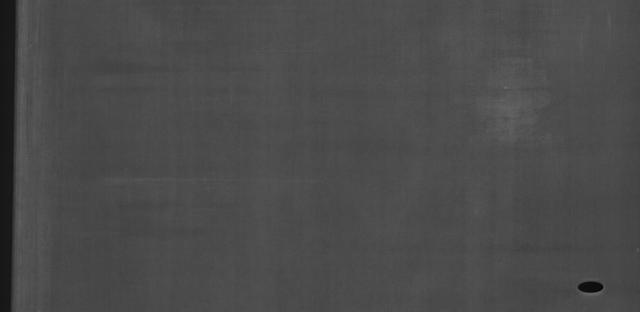punching_hole: (570, 276, 609, 298)
